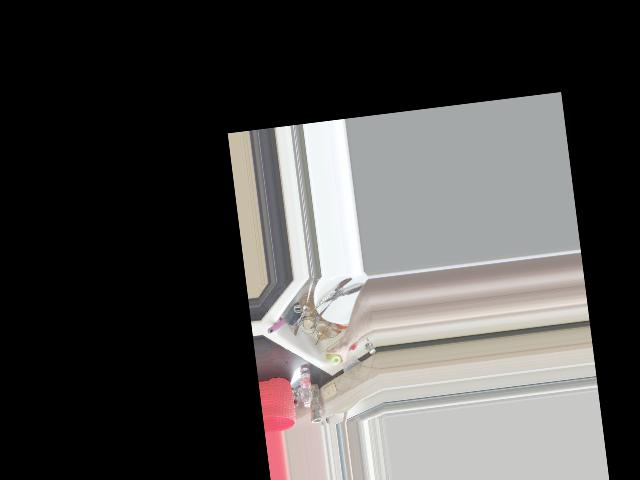apple: (325, 347, 342, 367)
